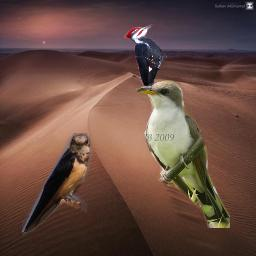Cuckoo: (136, 79, 230, 228)
Swallow: (22, 133, 91, 236)
Woodpecker: (124, 24, 167, 101)
